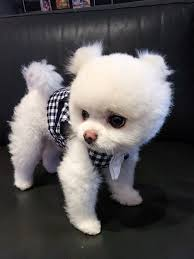dog: (58, 46, 170, 155)
